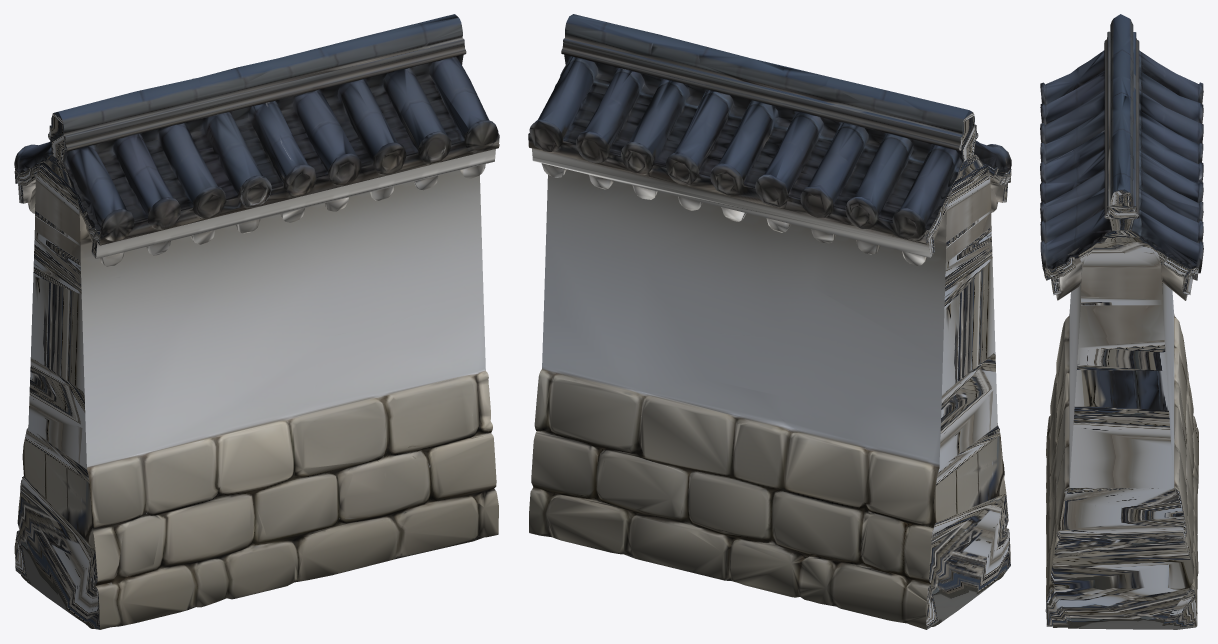
File: wall_segment_4m.glb
3 renders of one model, left to right at view 1: azimuth 30°, elevation 25°; view 2: azimuth 150°, elevation 25°; view 3: azimuth 270°, elevation 25°, orthographic. The views are drawn at different scales.
Parts seen in each view (by area): view 1: node_0; view 2: node_0; view 3: node_0.
Boxes of the visible parts, bbox=[...] form: node_0: bbox=[14, 14, 499, 629]; node_0: bbox=[528, 14, 1011, 629]; node_0: bbox=[1040, 14, 1203, 629].
Bounding box in the file's own units: 4 × 4.74 × 1.59.
1 material, 1 textured.
